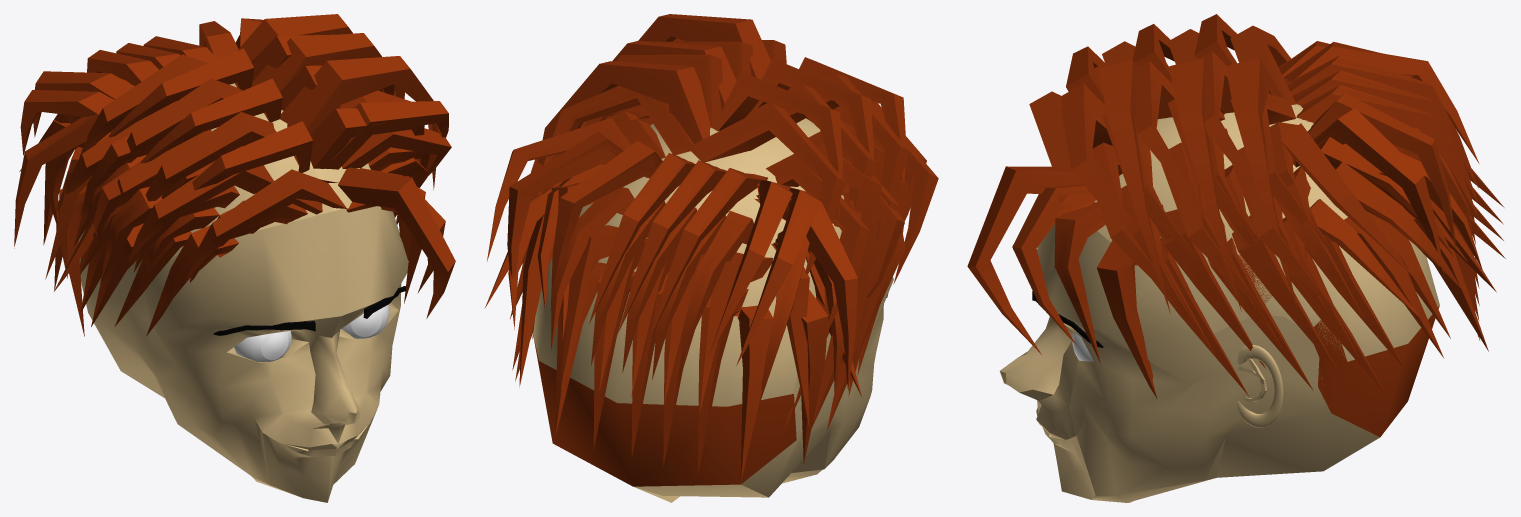
Rendered from all_triangle2.fbx.
The picture shows the model from 3 angles, left to right: view 1: azimuth 30°, elevation 25°; view 2: azimuth 150°, elevation 25°; view 3: azimuth 270°, elevation 25°; orthographic projection. The views are drawn at different scales.
Visible parts, largest first — view 1: 顔, ピラミッド, ピラミッド_65, ピラミッド_64, ピラミッド_66, ピラミッド_67, ピラミッド_69, ピラミッド_8, ピラミッド_68, ピラミッド_16, ピラミッド_63, ピラミッド_24 (+31 smaller); view 2: 顔, 顔_1, ピラミッド_24, ピラミッド_69, ピラミッド_70, ピラミッド_39, ピラミッド_35, ピラミッド_67, ピラミッド_63, ピラミッド_51, ピラミッド_66, ピラミッド_47 (+43 smaller); view 3: 顔, 顔_1, ピラミッド, ピラミッド_66, ピラミッド_67, ピラミッド_70, ピラミッド_68, ピラミッド_35, ピラミッド_24, ピラミッド_69, ピラミッド_1, ピラミッド_39 (+37 smaller).
Boxes of the visible parts, bbox=[...] form: 顔: bbox=[78, 83, 408, 502]; ピラミッド: bbox=[185, 167, 455, 318]; ピラミッド_65: bbox=[192, 108, 424, 190]; ピラミッド_64: bbox=[128, 101, 448, 262]; ピラミッド_66: bbox=[280, 56, 438, 189]; ピラミッド_67: bbox=[141, 65, 394, 163]; ピラミッド_69: bbox=[108, 34, 334, 137]; ピラミッド_8: bbox=[145, 90, 410, 201]; ピラミッド_68: bbox=[251, 33, 404, 99]; ピラミッド_16: bbox=[120, 78, 382, 166]; ピラミッド_63: bbox=[14, 114, 113, 248]; ピラミッド_24: bbox=[79, 54, 207, 158]; 顔: bbox=[533, 118, 893, 502]; 顔_1: bbox=[533, 247, 843, 486]; ピラミッド_24: bbox=[537, 86, 846, 273]; ピラミッド_69: bbox=[577, 54, 842, 220]; ピラミッド_70: bbox=[538, 61, 711, 165]; ピラミッド_39: bbox=[550, 141, 662, 311]; ピラミッド_35: bbox=[507, 131, 623, 278]; ピラミッド_67: bbox=[655, 41, 873, 177]; ピラミッド_63: bbox=[754, 195, 857, 391]; ピラミッド_51: bbox=[649, 168, 767, 339]; ピラミッド_66: bbox=[638, 14, 770, 79]; ピラミッド_47: bbox=[618, 160, 726, 332]; 顔: bbox=[999, 104, 1439, 502]; 顔_1: bbox=[1238, 254, 1439, 437]; ピラミッド: bbox=[967, 91, 1089, 354]; ピラミッド_66: bbox=[1098, 59, 1170, 313]; ピラミッド_67: bbox=[1132, 24, 1209, 218]; ピラミッド_70: bbox=[1225, 58, 1297, 311]; ピラミッド_68: bbox=[1169, 58, 1241, 311]; ピラミッド_35: bbox=[1313, 108, 1444, 277]; ピラミッド_24: bbox=[1230, 25, 1339, 258]; ピラミッド_69: bbox=[1194, 14, 1257, 191]; ピラミッド_1: bbox=[1012, 184, 1095, 345]; ピラミッド_39: bbox=[1307, 92, 1456, 248].
Size of the model in its own units: 177 by 214 by 226.
